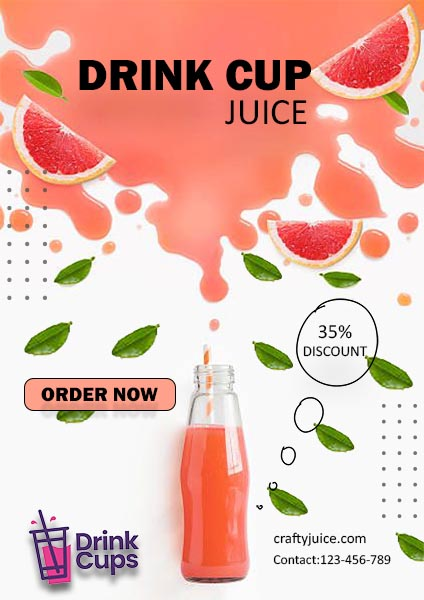CTA: (34, 384, 161, 403)
Price: (301, 326, 368, 357)
Product: (181, 360, 252, 584)
logo: (30, 509, 140, 583)
